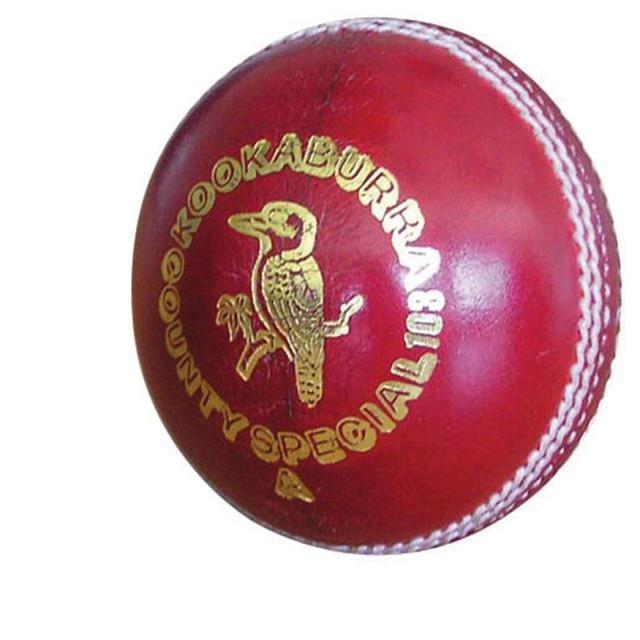ball: (123, 10, 630, 560)
